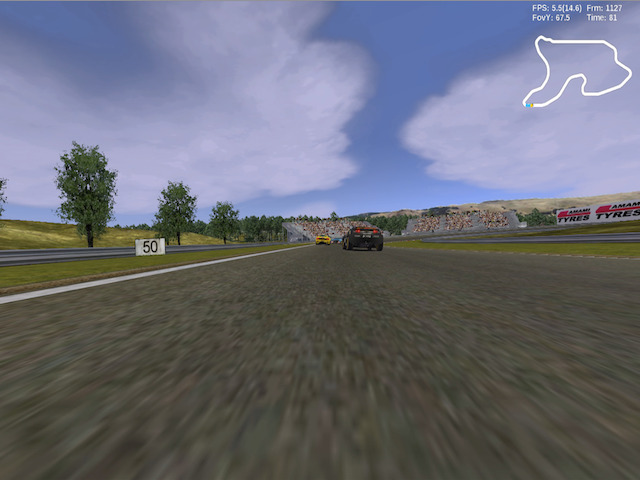Cavallo360: (315, 236, 332, 245)
Lynx220: (333, 237, 342, 246)
Spirit300: (343, 227, 384, 252)
